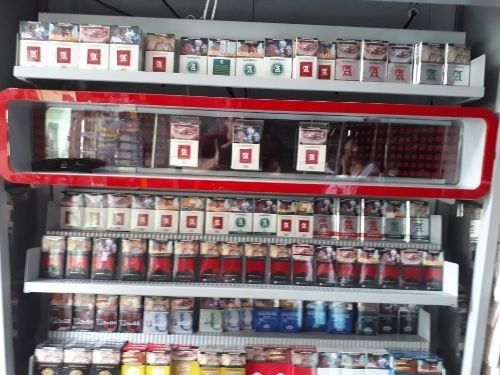A Mild 12: (278, 214, 296, 239), (295, 57, 315, 77), (316, 58, 334, 80), (297, 216, 314, 237)
A Mild 16: (47, 40, 78, 68), (77, 42, 107, 70), (108, 43, 137, 71), (171, 139, 199, 167), (21, 39, 48, 67), (297, 145, 325, 172), (233, 143, 260, 170), (145, 50, 173, 72), (180, 211, 205, 235), (155, 210, 179, 234), (85, 206, 108, 230), (108, 207, 132, 230), (61, 206, 84, 229), (206, 211, 229, 234), (132, 208, 154, 232)
A Mild Menthol 16: (207, 55, 235, 76), (179, 55, 208, 74), (230, 212, 253, 235), (253, 213, 277, 235), (236, 57, 262, 77), (264, 58, 291, 77)
Avolution Menthol 20: (406, 216, 431, 242), (418, 62, 443, 86), (383, 217, 406, 242), (446, 63, 470, 86)
Avolution Red 20: (338, 215, 361, 240), (336, 58, 361, 80), (362, 216, 384, 241), (362, 59, 386, 81), (388, 61, 412, 83), (313, 214, 335, 237)
Dji Sam Soe 12: (121, 364, 145, 375), (145, 366, 170, 375)
Dji Sam Soe 16: (172, 360, 198, 375), (221, 365, 246, 375), (196, 366, 221, 375)
Magnum Filter 12: (357, 311, 378, 335), (398, 312, 419, 335), (379, 312, 397, 335), (62, 362, 91, 375), (90, 361, 116, 375), (33, 363, 61, 375)
Magnum Mild 20: (326, 311, 354, 334), (278, 309, 303, 332), (253, 309, 278, 331), (304, 309, 327, 332)
Marlboro Filter Black 20: (119, 253, 145, 281), (147, 254, 173, 282), (91, 252, 116, 280), (199, 253, 222, 283), (221, 255, 244, 284), (67, 252, 91, 278), (41, 252, 64, 279), (174, 254, 196, 281), (243, 255, 265, 282), (422, 265, 444, 292), (314, 261, 337, 286), (292, 259, 314, 284), (271, 258, 292, 284), (401, 264, 422, 290), (339, 262, 359, 287), (360, 263, 380, 288), (380, 264, 399, 288)
U Mild 12: (224, 309, 241, 331), (241, 308, 254, 329)
U Mild 16: (170, 310, 194, 335), (145, 310, 168, 333)
U Mild Bold 16: (49, 293, 73, 329), (120, 307, 143, 333), (96, 307, 118, 332), (75, 306, 95, 331)
U Mild Cool 16: (201, 309, 224, 334)
